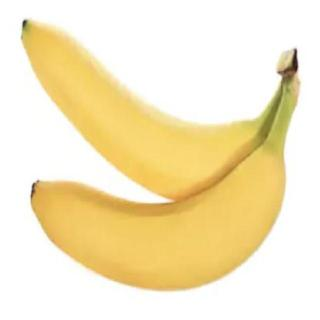banana: (19, 13, 267, 211), (29, 146, 287, 291)
